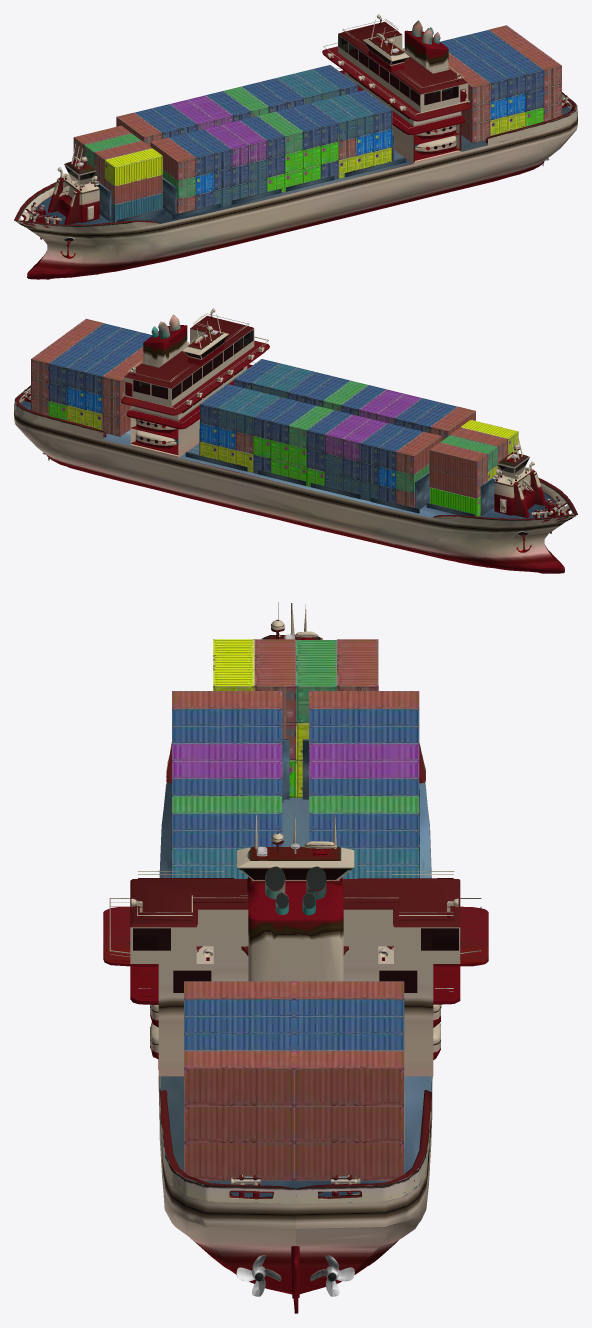
The model's file is cargo_ship_01.glb.
The picture shows the model from 3 angles, top to bottom: view 1: azimuth 30°, elevation 25°; view 2: azimuth 150°, elevation 25°; view 3: azimuth 270°, elevation 25°; orthographic projection. The views are drawn at different scales.
Parts seen in each view (by area): view 1: Object_19, Object_13, Object_32, Object_10, Object_12, Object_9, Object_16, Object_40, Object_11, Object_8, Object_37, Object_14 (+6 smaller); view 2: Object_19, Object_13, Object_32, Object_10, Object_12, Object_8, Object_16, Object_40, Object_11, Object_9, Object_37, Object_14 (+5 smaller); view 3: Object_32, Object_10, Object_13, Object_19, Object_40, Object_16, Object_11, Object_36, Object_12, Object_37, Object_35, Object_9 (+3 smaller).
Part boxes in pixels (<box>): Object_19: <box>26,113,577,279</box>; Object_13: <box>135,30,543,209</box>; Object_32: <box>14,19,577,228</box>; Object_10: <box>73,25,561,213</box>; Object_12: <box>111,69,374,222</box>; Object_9: <box>93,112,526,186</box>; Object_16: <box>170,95,267,167</box>; Object_40: <box>28,104,577,230</box>; Object_11: <box>84,86,302,199</box>; Object_8: <box>255,107,543,192</box>; Object_37: <box>65,35,458,180</box>; Object_14: <box>196,92,525,194</box>; Object_19: <box>14,407,565,573</box>; Object_13: <box>49,323,456,503</box>; Object_32: <box>14,315,577,525</box>; Object_10: <box>31,318,518,507</box>; Object_12: <box>217,363,378,501</box>; Object_8: <box>48,401,480,516</box>; Object_16: <box>324,389,421,461</box>; Object_40: <box>15,398,565,523</box>; Object_11: <box>289,380,497,493</box>; Object_9: <box>66,405,518,480</box>; Object_37: <box>133,329,529,473</box>; Object_14: <box>66,386,395,489</box>; Object_32: <box>103,603,488,1313</box>; Object_10: <box>172,639,419,1180</box>; Object_13: <box>172,709,419,1050</box>; Object_19: <box>150,783,440,1294</box>; Object_40: <box>159,739,431,1202</box>; Object_16: <box>172,743,419,778</box>; Object_11: <box>172,640,419,813</box>; Object_36: <box>133,847,460,959</box>; Object_12: <box>172,848,418,878</box>; Object_37: <box>133,868,458,1024</box>; Object_35: <box>160,744,431,1203</box>; Object_9: <box>213,639,404,1145</box>.
Size of the model in its own units: 9.14 by 2.74 by 2.8.
26 materials, 25 textured.
